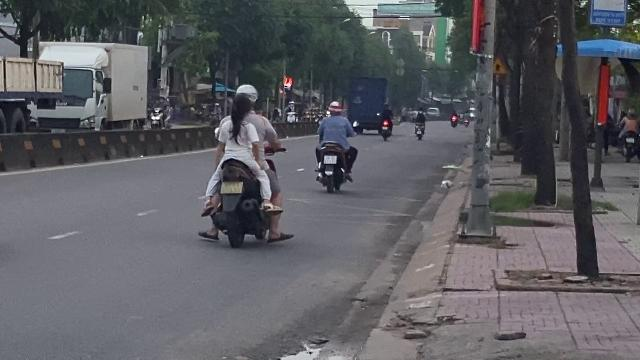helmet: (232, 83, 258, 101)
licenseplate: (220, 181, 242, 192)
motorcyclist: (198, 82, 288, 248)
nohelmet: (229, 94, 255, 121)
